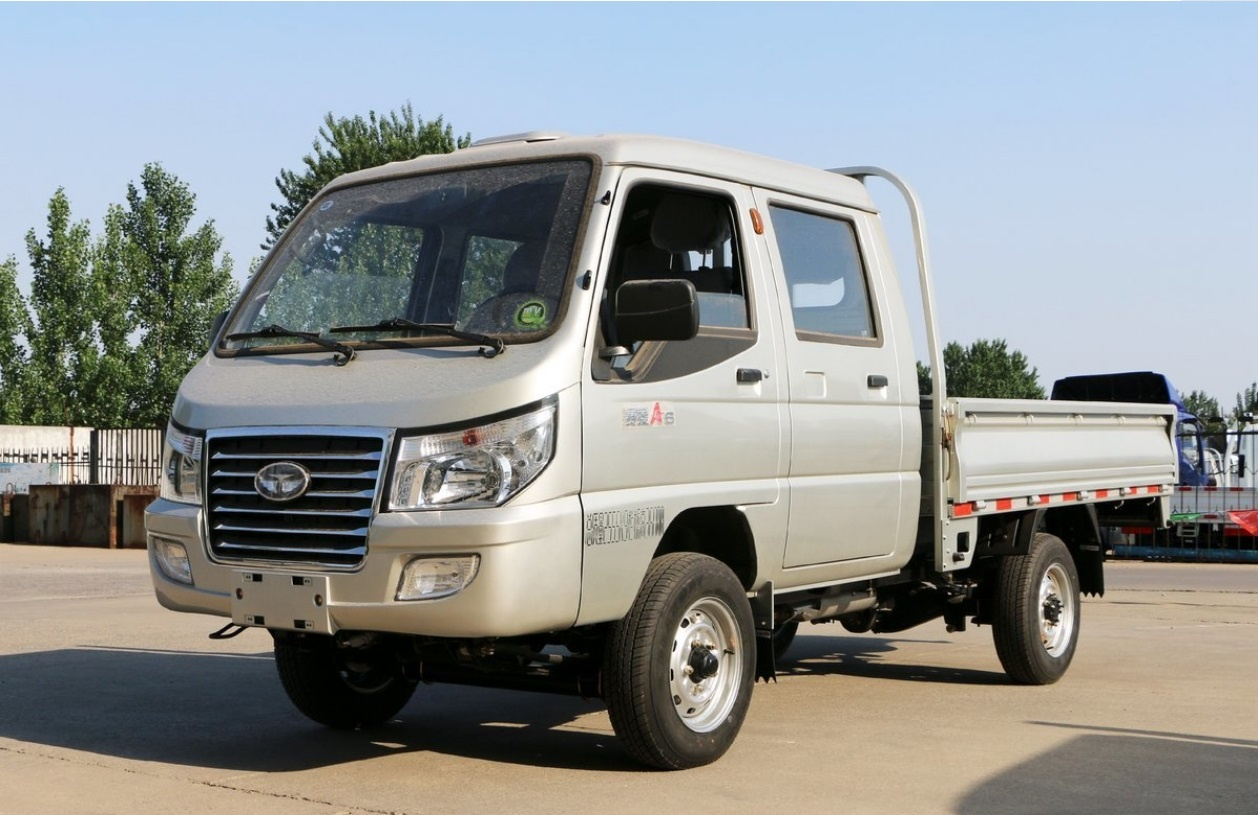truck: (159, 119, 1177, 756)
